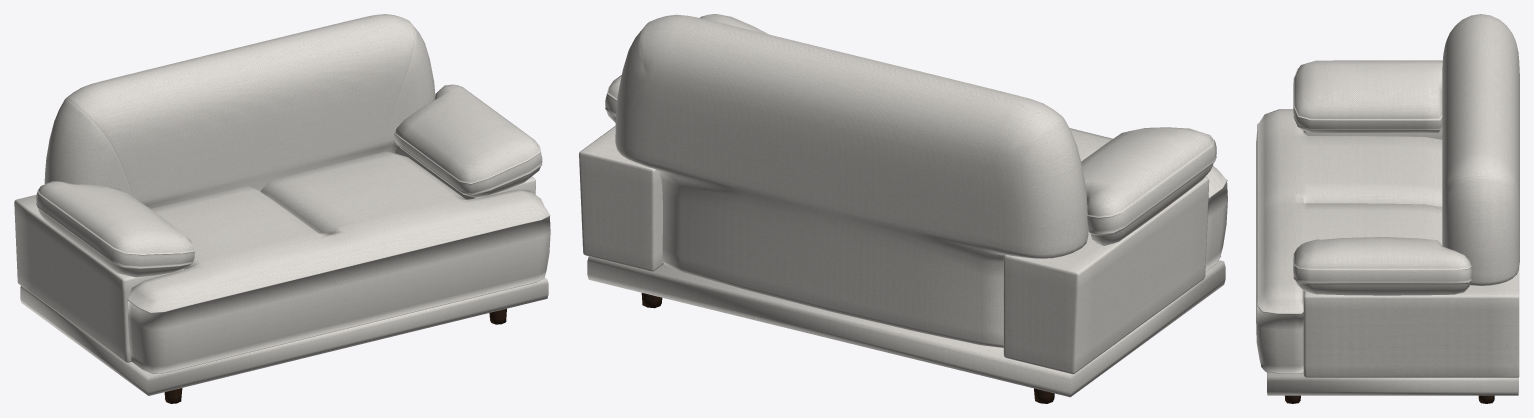
Rendered from design6.obj.
3 views of the same model, side by side, from view 1: azimuth 30°, elevation 25°; view 2: azimuth 150°, elevation 25°; view 3: azimuth 270°, elevation 25° (orthographic). The views are drawn at different scales.
Parts seen in each view (by area): view 1: Plane015, Box026, Plane013, Plane011, Plane009, Box027; view 2: Box026, Plane011, Plane009, Plane013, Plane015; view 3: Plane015, Plane013, Box026, Plane011, Plane009, Box027.
Part boxes in pixels (<box>): Plane015: <box>127,151,550,373</box>; Box026: <box>44,14,435,208</box>; Plane013: <box>36,84,542,277</box>; Plane011: <box>14,146,535,362</box>; Plane009: <box>20,278,548,395</box>; Box027: <box>164,308,506,403</box>; Box026: <box>615,14,1088,347</box>; Plane011: <box>579,126,1209,374</box>; Plane009: <box>587,256,1225,397</box>; Plane013: <box>605,14,1216,245</box>; Plane015: <box>1069,128,1227,271</box>; Plane015: <box>1256,109,1442,373</box>; Plane013: <box>1293,60,1472,295</box>; Box026: <box>1442,14,1519,285</box>; Plane011: <box>1303,128,1519,377</box>; Plane009: <box>1267,372,1518,395</box>; Box027: <box>1285,395,1494,403</box>.
Bounding box in the file's own units: 1414 × 761 × 764.
2 materials, 2 textured.
